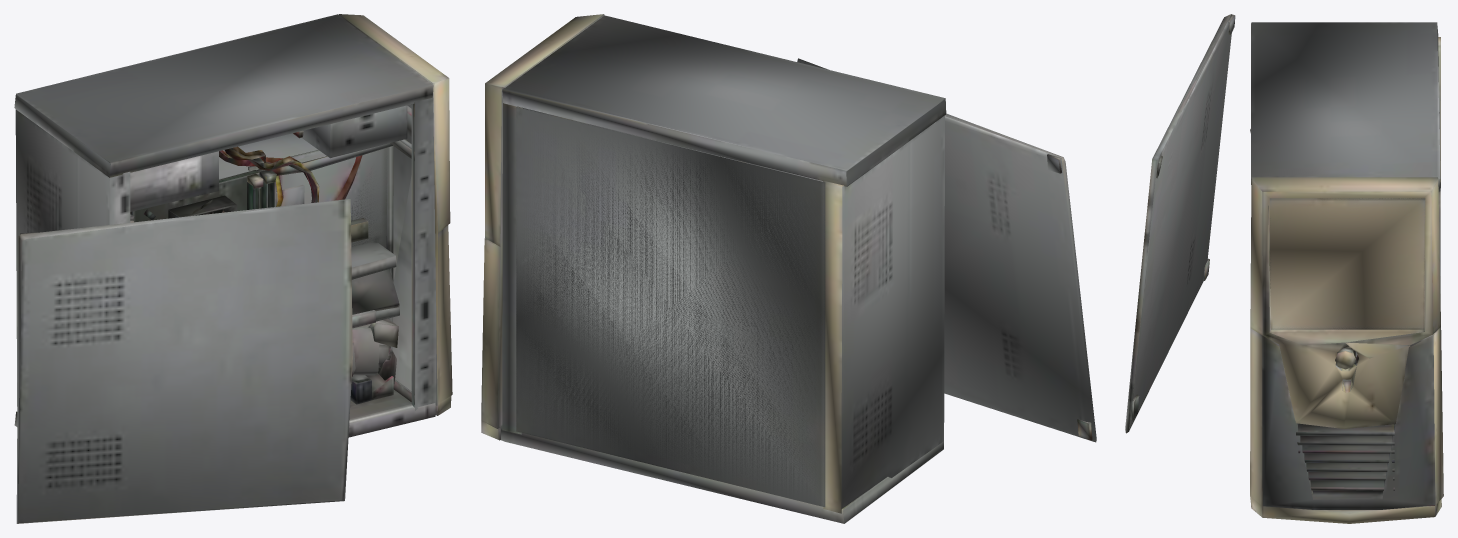
File: salvage-pc_case_prop.glb
3 views of the same model, side by side, from view 1: azimuth 30°, elevation 25°; view 2: azimuth 150°, elevation 25°; view 3: azimuth 270°, elevation 25° (orthographic). The views are drawn at different scales.
Parts seen in each view (by area): view 1: Meshy_AI_pc_case_prop_3d_20261028_texture; view 2: Meshy_AI_pc_case_prop_3d_20261028_texture; view 3: Meshy_AI_pc_case_prop_3d_20261028_texture.
Part boxes in pixels (x1,y1,x2,y2): Meshy_AI_pc_case_prop_3d_20261028_texture: (14, 14, 452, 523); Meshy_AI_pc_case_prop_3d_20261028_texture: (481, 14, 1096, 523); Meshy_AI_pc_case_prop_3d_20261028_texture: (1125, 14, 1443, 523).
Size of the model in its own units: 0.5 by 0.334 by 0.2926.
Materials: 1 (1 with a texture image).
